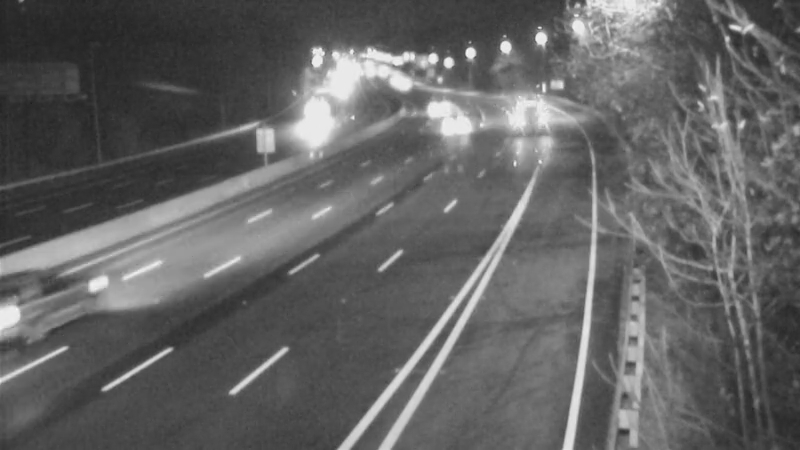vehicle: (1, 250, 104, 360), (366, 53, 416, 103), (380, 60, 430, 110), (491, 78, 541, 128), (410, 82, 460, 132), (441, 96, 491, 146), (291, 93, 341, 143), (316, 60, 366, 110)
